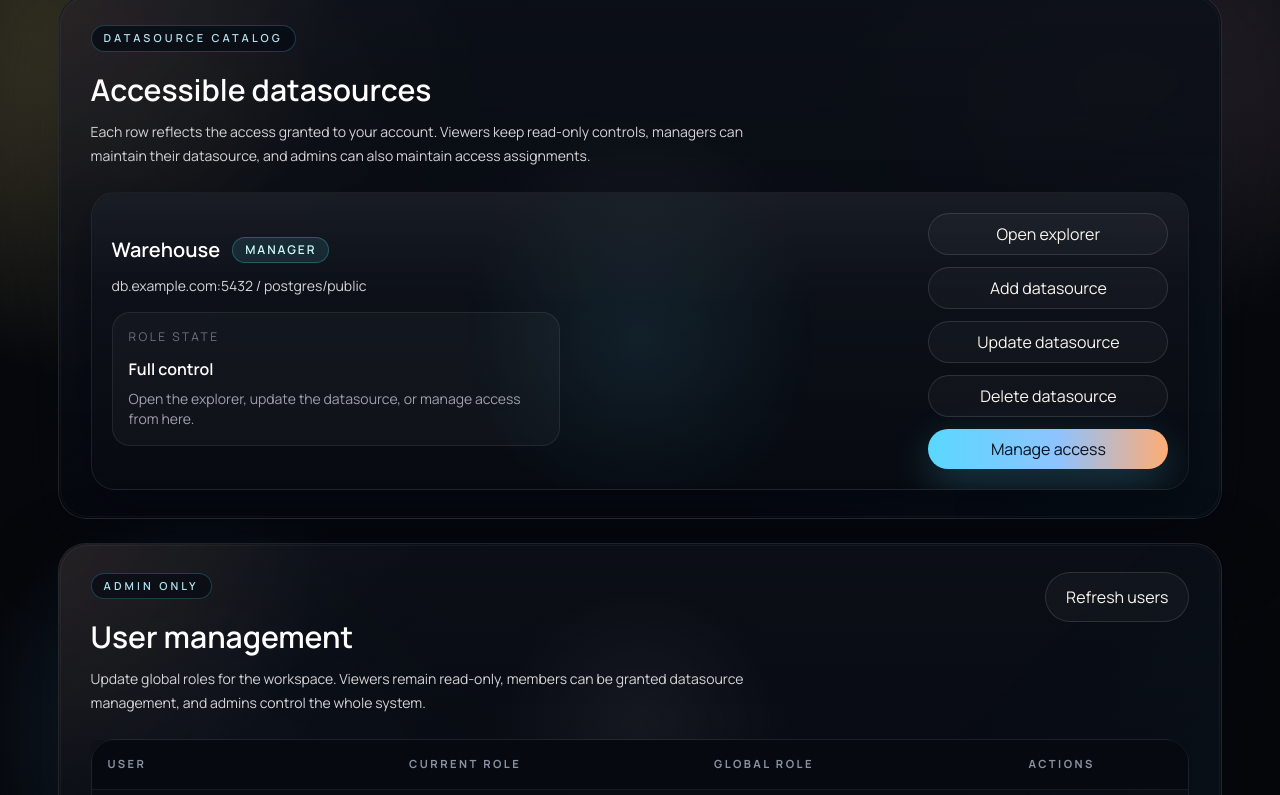
datasource catalog › deletes a datasource from the catalog modal
(page scrolled)
Step 1. Click the button "Delete datasource" → (1048, 396), box [928, 375, 1168, 417]
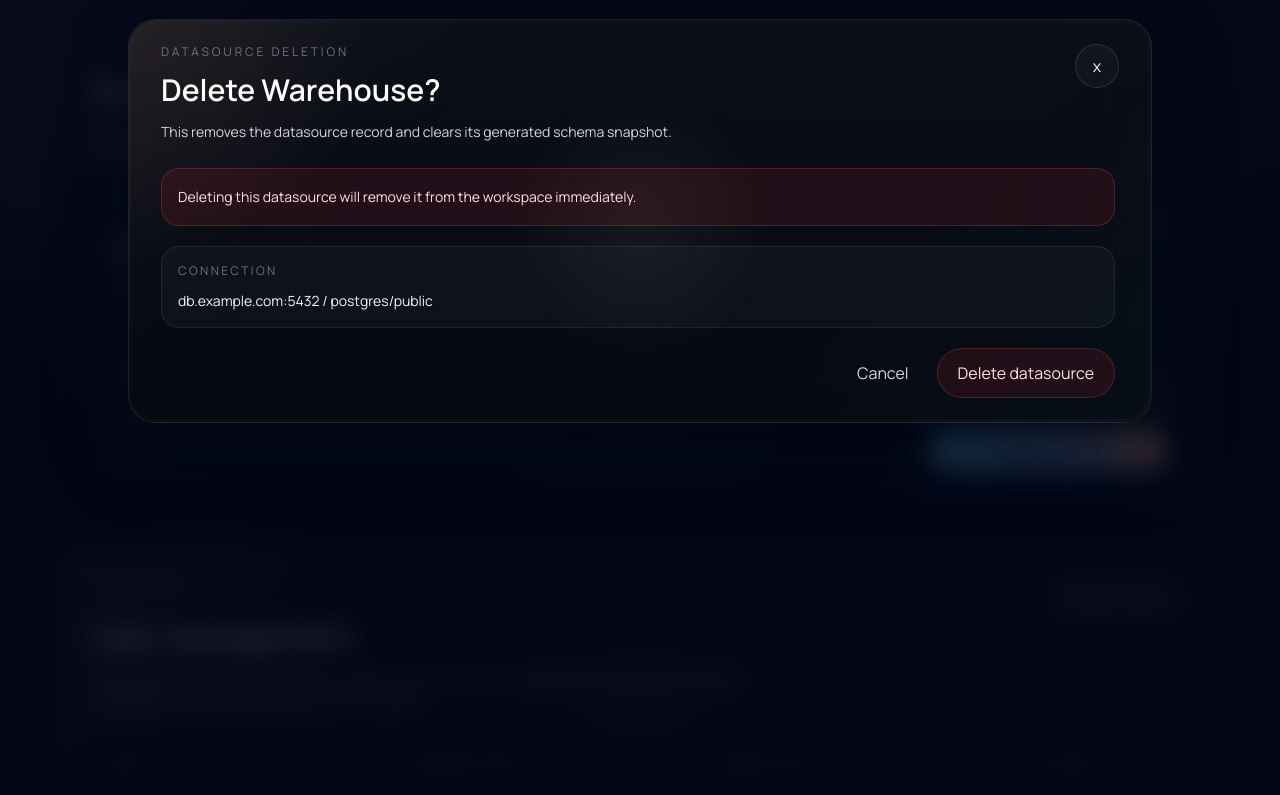
Now the text "Datasource deletion" is shown, box [161, 43, 349, 60]
Step 2. Click the button "Delete datasource" → (1026, 373), box [937, 348, 1115, 398]
(page scrolled)
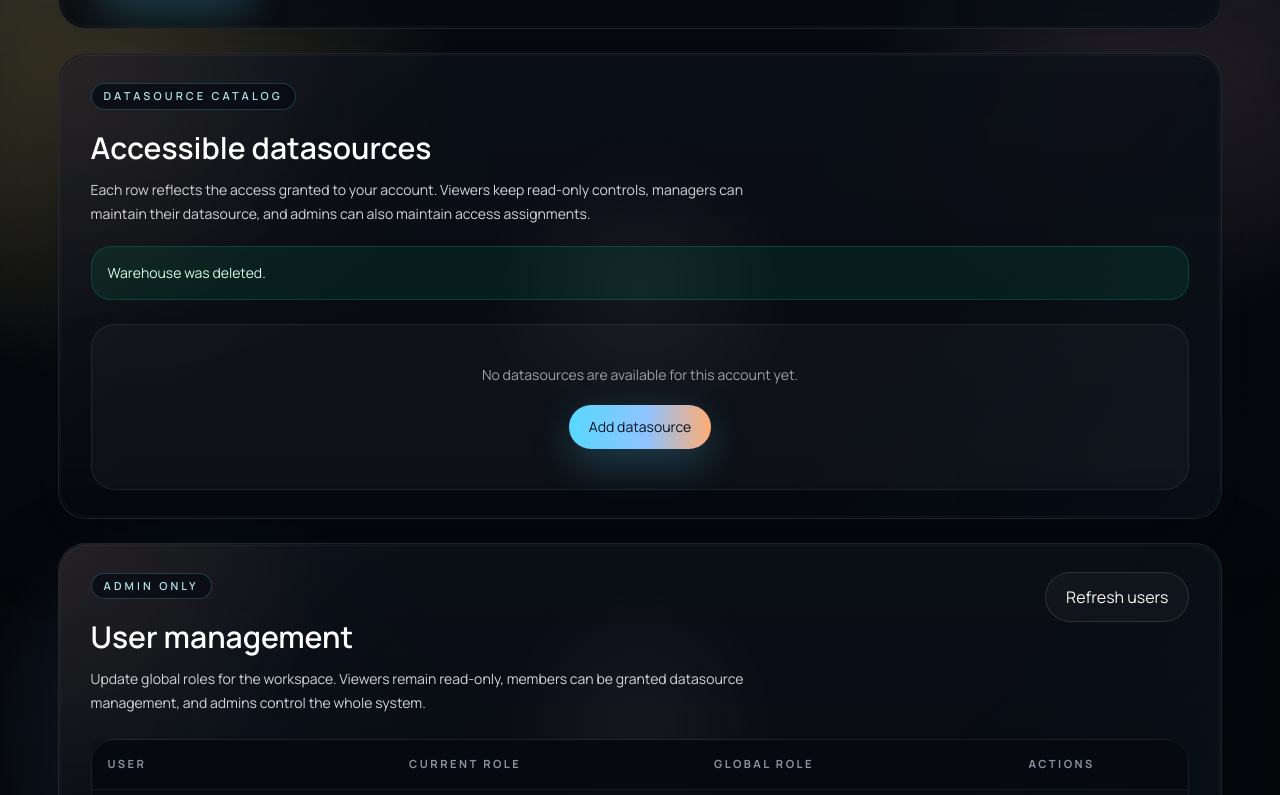
Now the text "Warehouse was deleted." is shown, box [91, 246, 1189, 300]
Now the text "No datasources are available for this account yet." is shown, box [482, 365, 798, 384]
